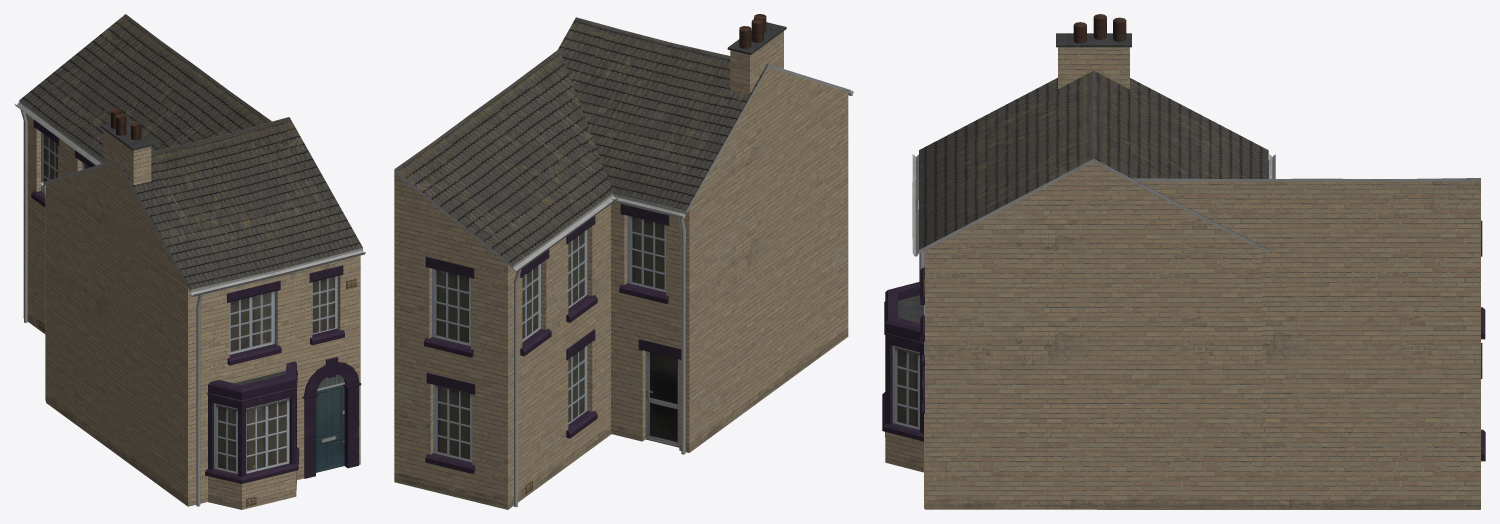
File: ukterracedvictorian12bm.FBX
3 views of the same model, side by side, from view 1: azimuth 30°, elevation 25°; view 2: azimuth 150°, elevation 25°; view 3: azimuth 270°, elevation 25° (orthographic). The views are drawn at different scales.
Parts seen in each view (by area): view 1: Object003; view 2: Object003; view 3: Object003.
Part boxes in pixels (x1,y1,x2,y2): Object003: (14,14,365,509); Object003: (394,14,853,509); Object003: (882,14,1485,509).
Size of the model in its own units: 560 by 1041 by 1431.
